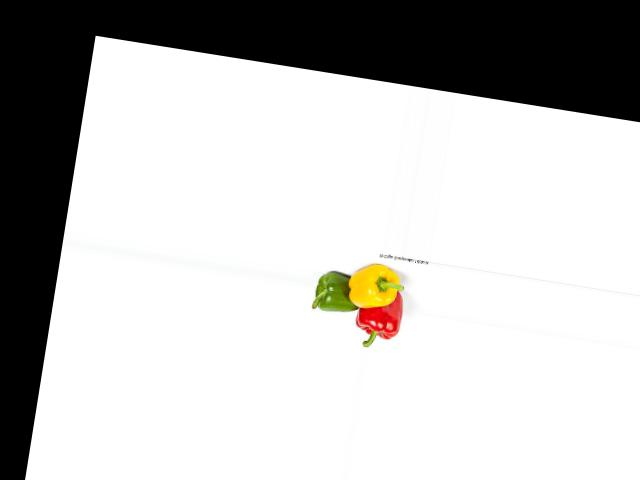bell_pepper: (351, 288, 409, 352)
